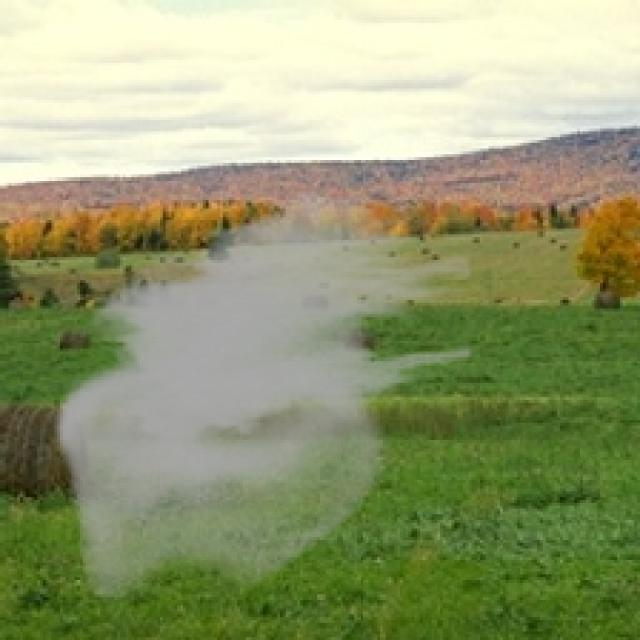smoke: (54, 186, 474, 600)
